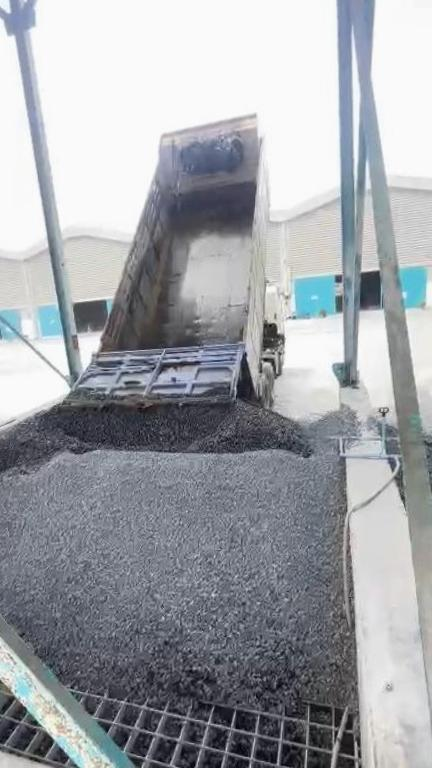gravel: (0, 367, 363, 705), (143, 236, 172, 347), (425, 433, 432, 546)
